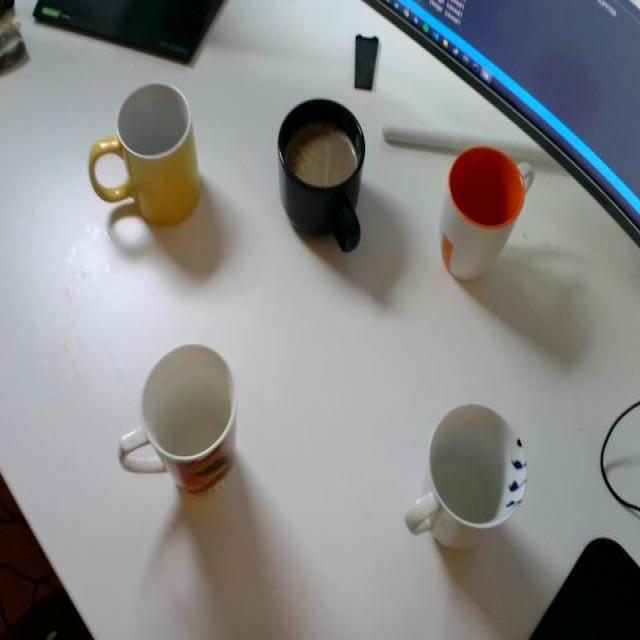cup: (114, 327, 261, 503), (86, 70, 224, 237), (400, 398, 540, 560), (275, 90, 375, 272), (428, 136, 532, 286)
